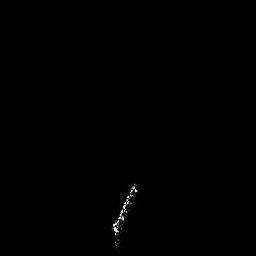ship: (110, 181, 139, 251)
